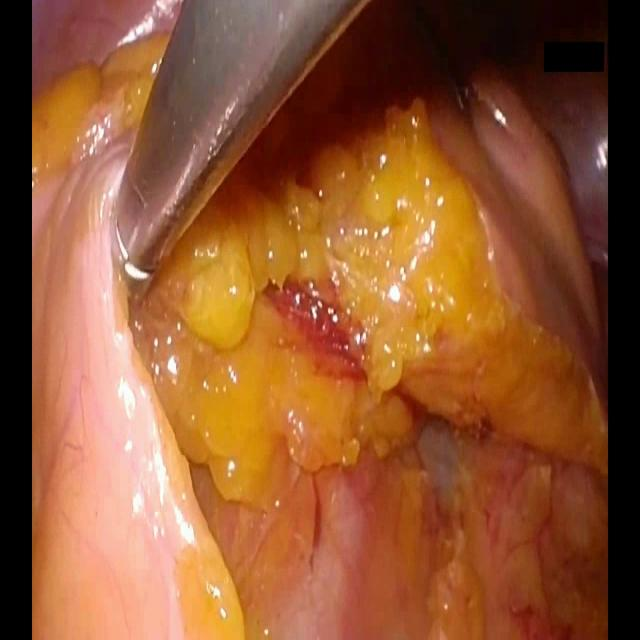surgical-area: (31, 0, 606, 639)
surgical-tool: (112, 0, 370, 313)
